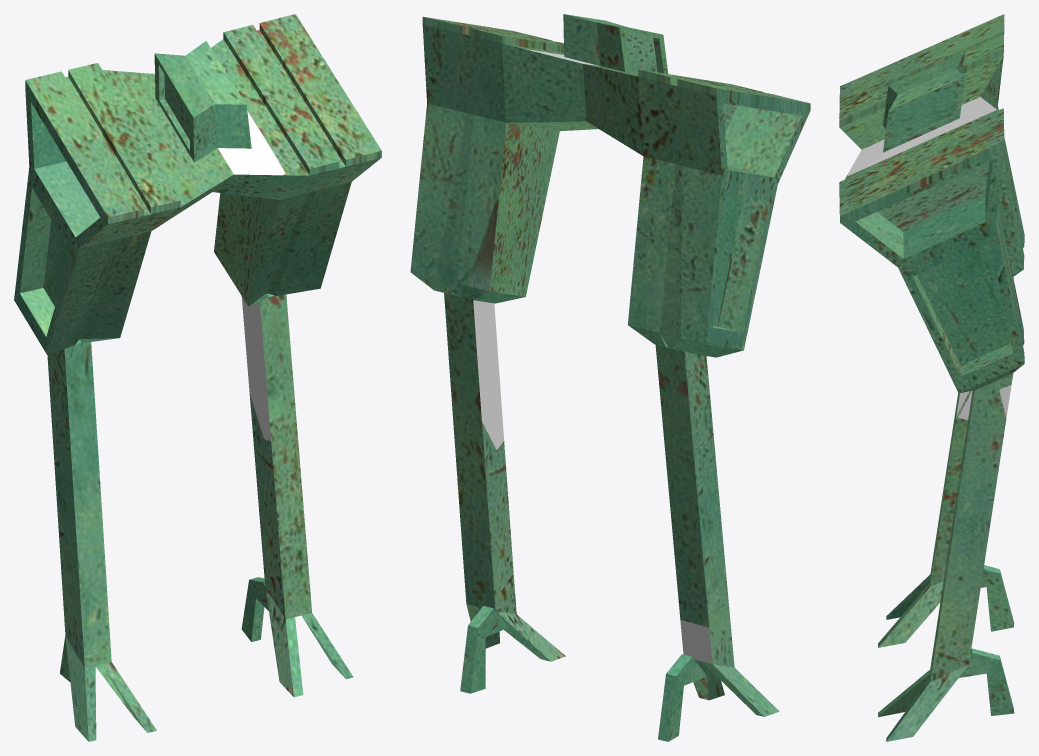
File: owlLegs.fbx
The picture shows the model from 3 angles, left to right: view 1: azimuth 30°, elevation 25°; view 2: azimuth 150°, elevation 25°; view 3: azimuth 270°, elevation 25°; orthographic projection. The views are drawn at different scales.
Visible parts, largest first — view 1: OwlLegs; view 2: OwlLegs; view 3: OwlLegs.
Part boxes in pixels (x1=…): OwlLegs: x1=14, y1=14, x2=381, y2=741; OwlLegs: x1=410, y1=14, x2=810, y2=741; OwlLegs: x1=839, y1=14, x2=1024, y2=741.
Bounding box in the file's own units: 190 × 420 × 114.
